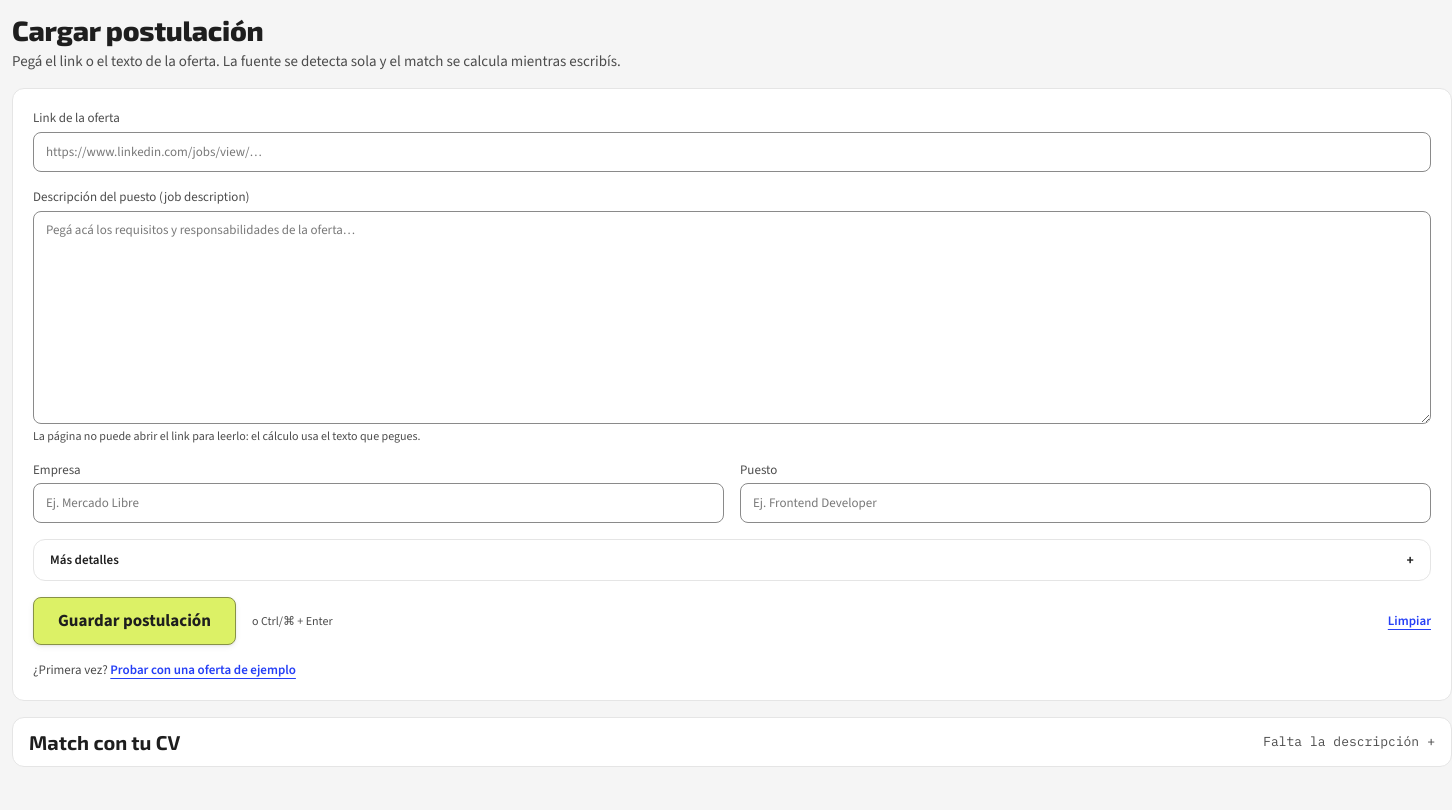
NewOfferTab › clears the draft
Type "Acme" into the field labelled "Empresa" at (378, 503), box [33, 483, 724, 523]
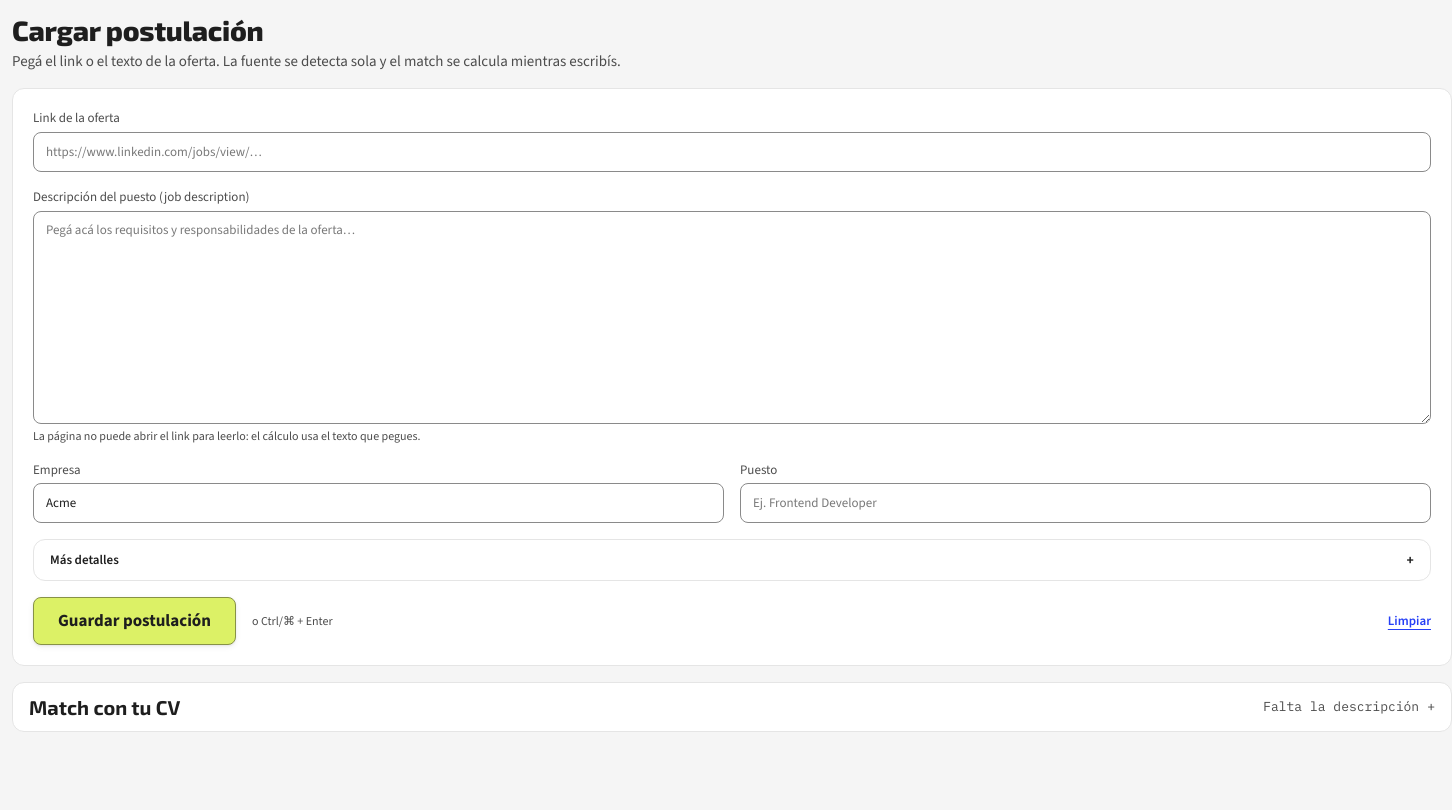
Click the button "Limpiar" at (1409, 621), box [1388, 612, 1431, 631]
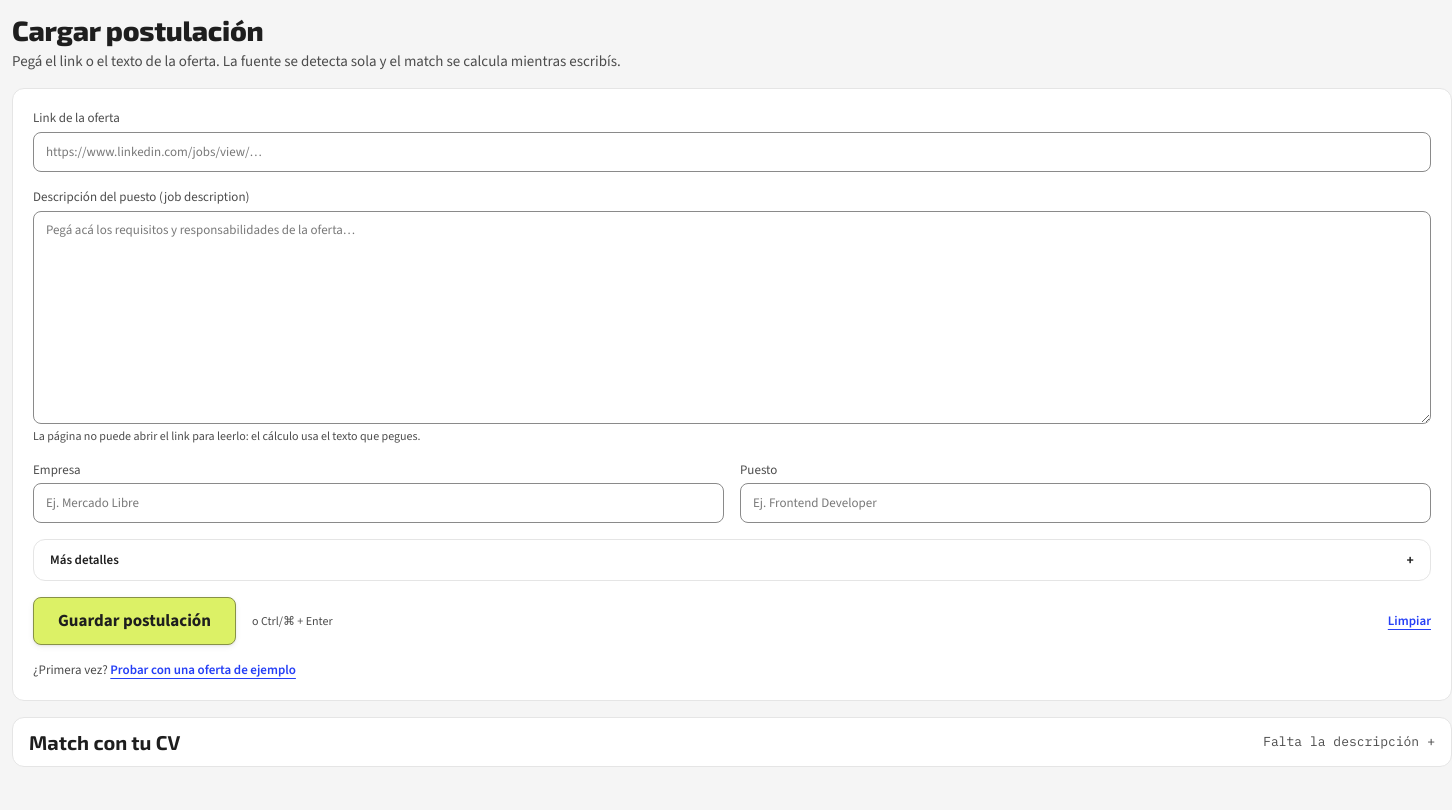
Expected: the field labelled "Empresa" is empty, [33, 483, 724, 523]
